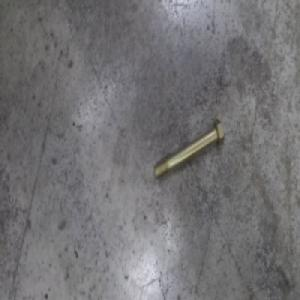Bolt: (152, 117, 224, 181)
